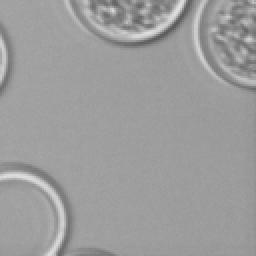picoshell: (0, 162, 70, 254), (64, 0, 188, 44), (192, 0, 254, 88), (0, 24, 10, 90)
